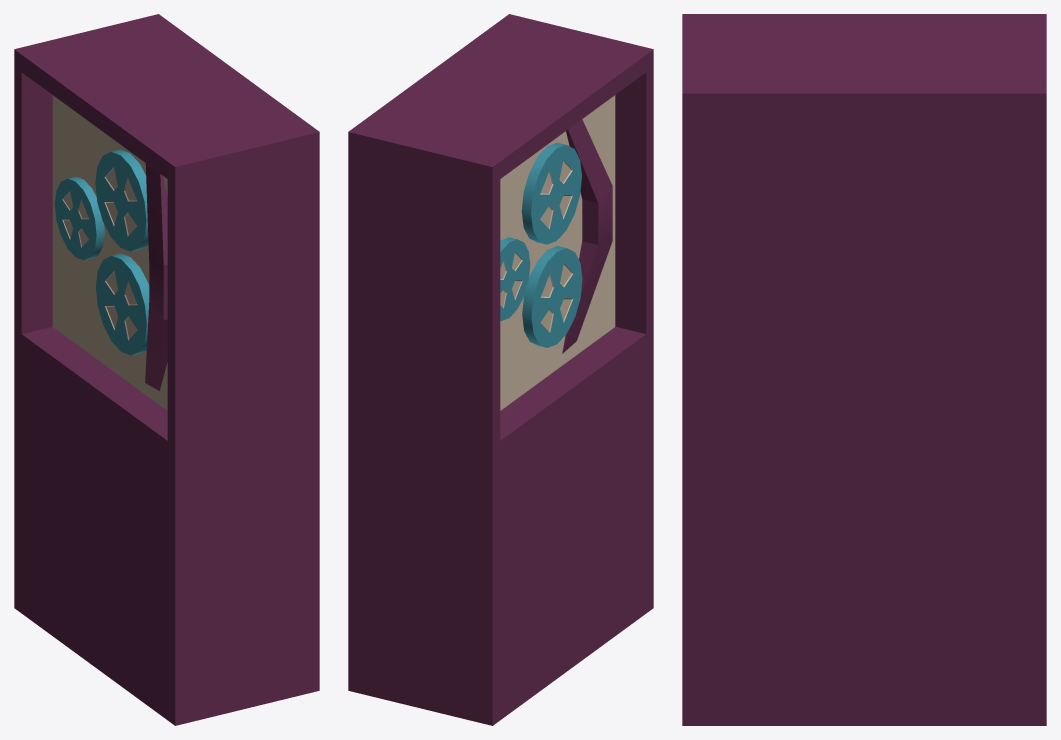
The model's file is B_StandingConsole.fbx.
3 renders of one model, left to right at view 1: azimuth 30°, elevation 25°; view 2: azimuth 150°, elevation 25°; view 3: azimuth 270°, elevation 25°, orthographic. The views are drawn at different scales.
Parts seen in each view (by area): view 1: B_StandingConsole, ReelConsole4, ReelConsole3, ReelConsole5; view 2: B_StandingConsole, ReelConsole3, ReelConsole4, ReelConsole5; view 3: B_StandingConsole.
Part boxes in pixels (bbox=[...]): B_StandingConsole: bbox=[14, 14, 319, 725]; ReelConsole4: bbox=[96, 253, 149, 355]; ReelConsole3: bbox=[95, 149, 148, 251]; ReelConsole5: bbox=[54, 176, 104, 260]; B_StandingConsole: bbox=[348, 14, 653, 725]; ReelConsole3: bbox=[521, 142, 581, 244]; ReelConsole4: bbox=[522, 246, 582, 347]; ReelConsole5: bbox=[500, 237, 530, 320]; B_StandingConsole: bbox=[682, 14, 1046, 725].
Size of the model in its own units: 3.01 by 11.13 by 5.82.
